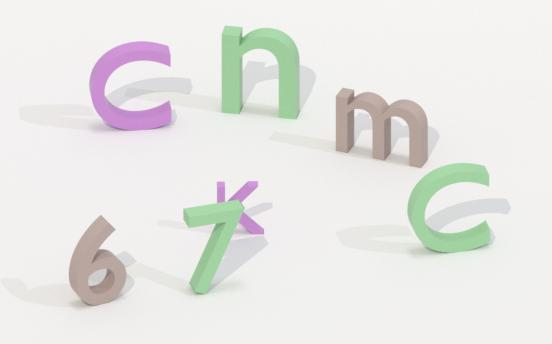6: (63, 212, 130, 311)
7: (178, 200, 248, 300)
c: (400, 157, 500, 257), (86, 34, 177, 133)
k: (215, 176, 266, 241)
m: (329, 80, 428, 173)
n: (218, 19, 307, 126)
